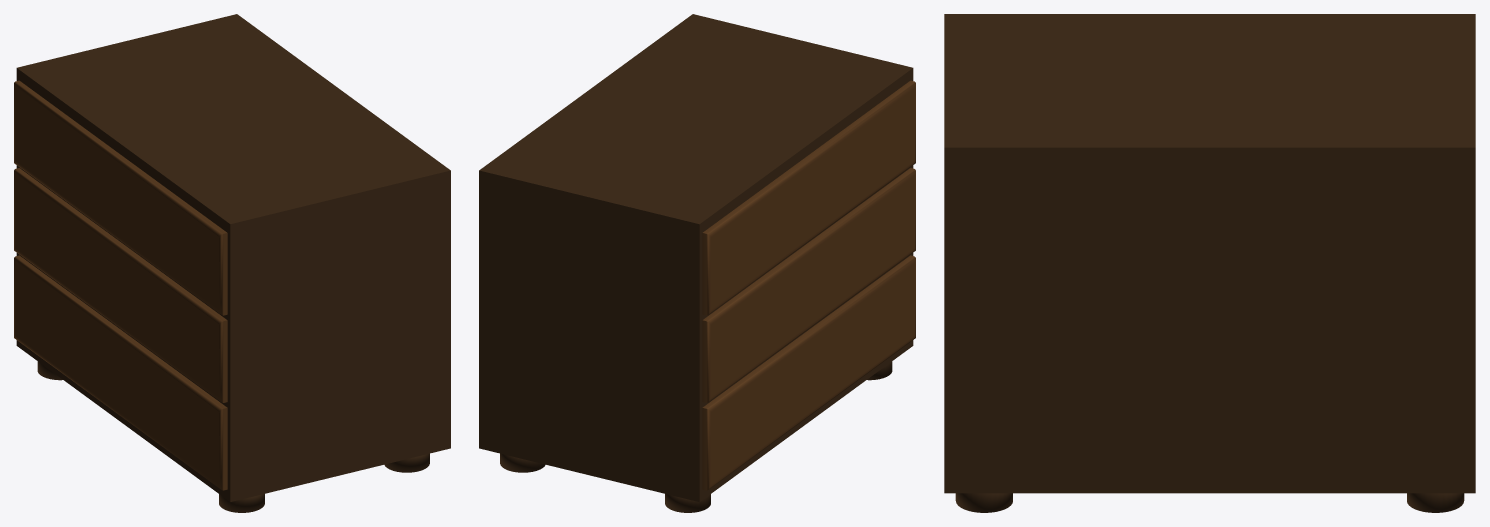
File: Dresser.glb
3 views of the same model, side by side, from view 1: azimuth 30°, elevation 25°; view 2: azimuth 150°, elevation 25°; view 3: azimuth 270°, elevation 25° (orthographic). The views are drawn at different scales.
Parts seen in each view (by area): view 1: dresser, top_dresser_drawer, bottom_dresser_drawer, middle_dresser_drawer; view 2: dresser, top_dresser_drawer, bottom_dresser_drawer, middle_dresser_drawer; view 3: dresser.
Boxes of the visible parts, x1=… form: dresser: x1=16, y1=14, x2=450, y2=512; top_dresser_drawer: x1=14, y1=80, x2=227, y2=315; bottom_dresser_drawer: x1=14, y1=255, x2=227, y2=490; middle_dresser_drawer: x1=14, y1=168, x2=227, y2=402; dresser: x1=479, y1=14, x2=913, y2=512; top_dresser_drawer: x1=702, y1=80, x2=915, y2=315; bottom_dresser_drawer: x1=702, y1=255, x2=915, y2=490; middle_dresser_drawer: x1=702, y1=168, x2=915, y2=402; dresser: x1=944, y1=14, x2=1475, y2=512.
Size of the model in its own units: 9.29 by 11.65 by 15.16.
